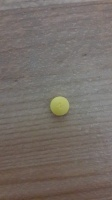Nurofen: (49, 95, 71, 117)
